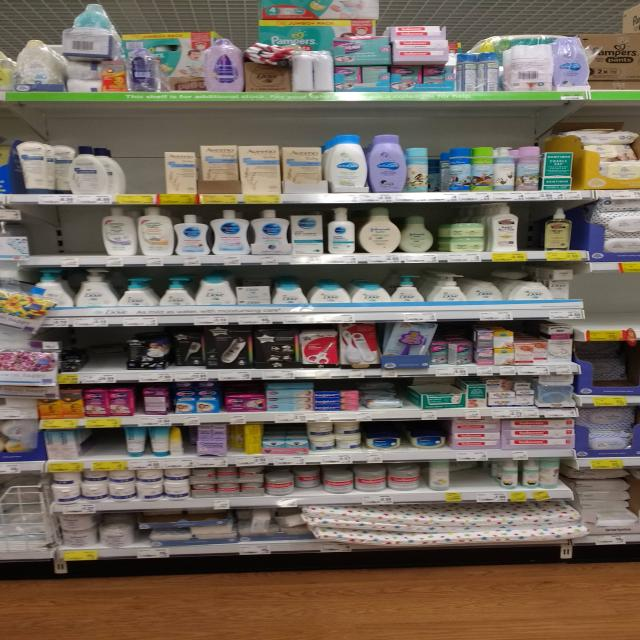unorganised: (582, 342, 637, 385), (385, 321, 438, 356), (171, 327, 203, 370), (50, 471, 79, 506), (295, 467, 323, 491), (448, 341, 474, 365), (248, 509, 272, 532), (228, 424, 245, 456), (501, 461, 520, 489), (335, 432, 361, 448), (170, 426, 183, 455)
